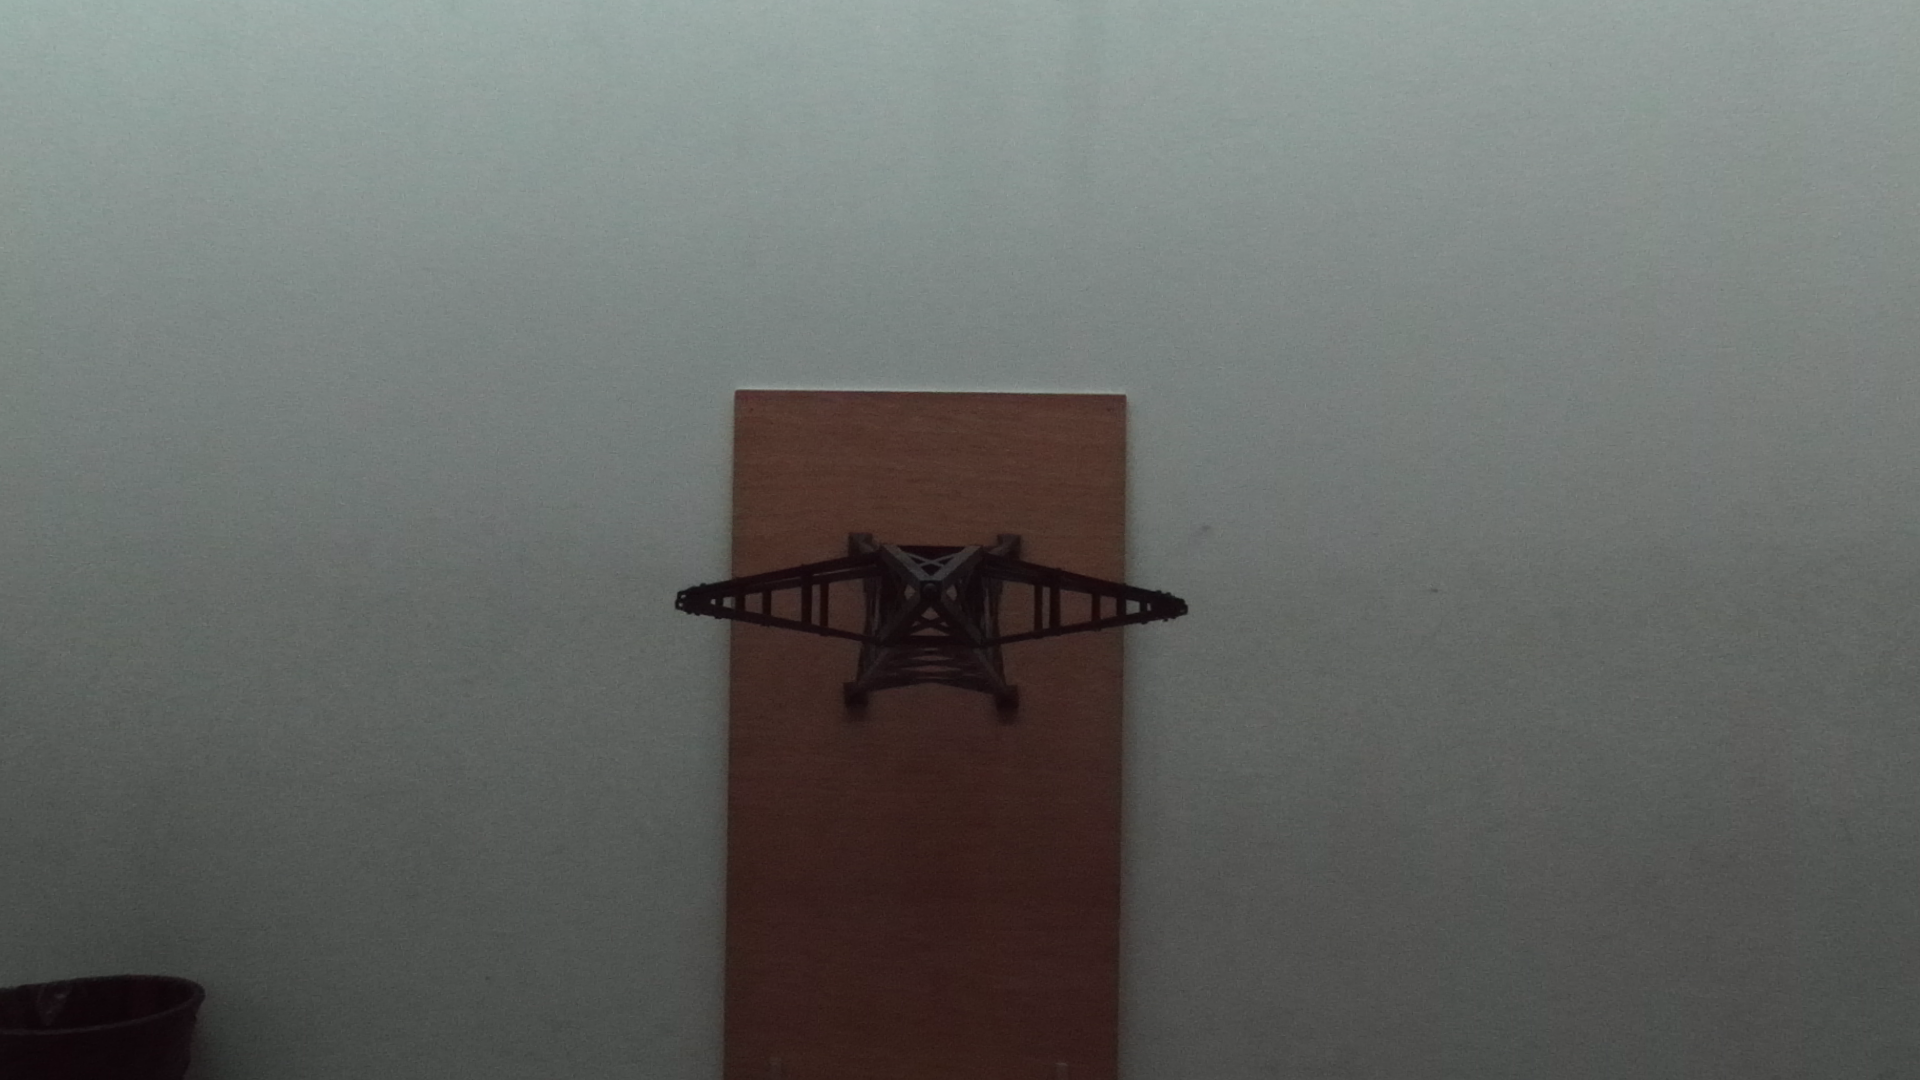pylon_phy: (674, 543, 1189, 651)
